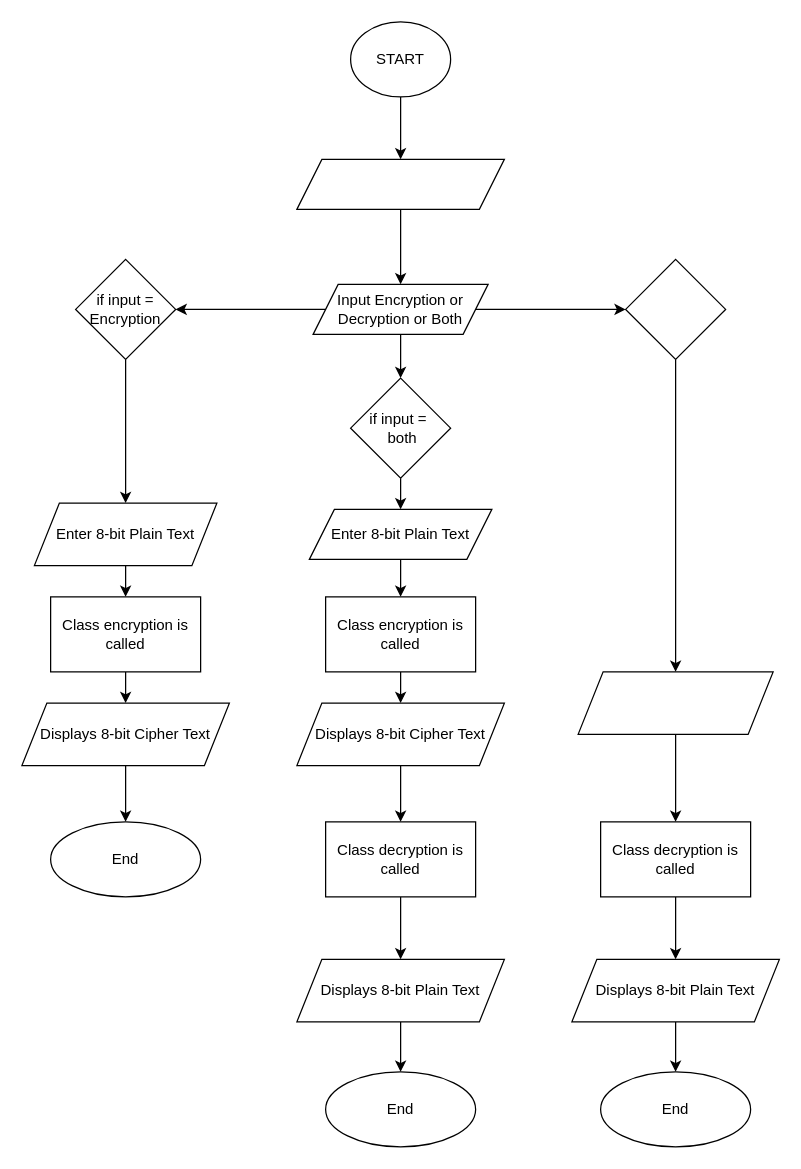
The diagram is 801 pixels wide and 1169 high, and some of its shapes have lost their labels. The box of each missing label's shape, as (x1, y1, x2, y2) in pixels:
Enter 10-bit Master Key: (296, 158, 504, 209)
Enter 8-bit Cipher Text: (577, 671, 773, 734)
if input = Decryption: (624, 258, 726, 359)
